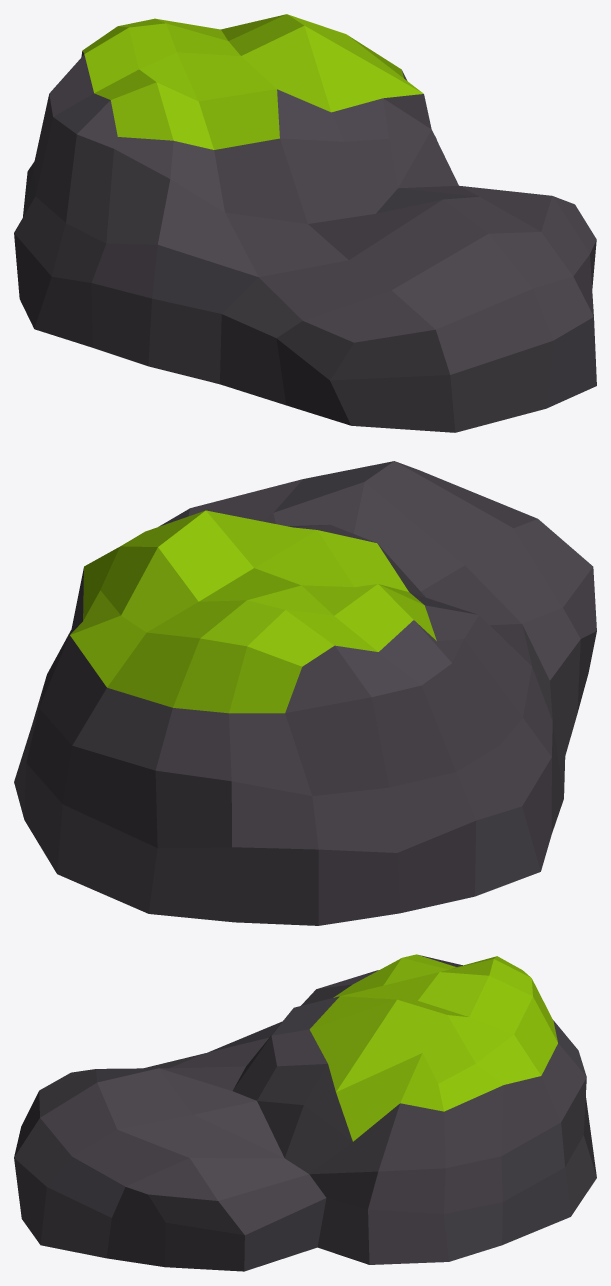
The model's file is SeaObj03.fbx.
3 views of the same model, one above another, from view 1: azimuth 30°, elevation 25°; view 2: azimuth 150°, elevation 25°; view 3: azimuth 270°, elevation 25° (orthographic). The views are drawn at different scales.
Visible parts, largest first — view 1: Rock.006; view 2: Rock.006; view 3: Rock.006.
Boxes of the visible parts, x1,y1,x2,y2 form: Rock.006: [14, 14, 596, 432]; Rock.006: [14, 461, 596, 925]; Rock.006: [14, 954, 596, 1271].
Size of the model in its own units: 475 by 240 by 614.
